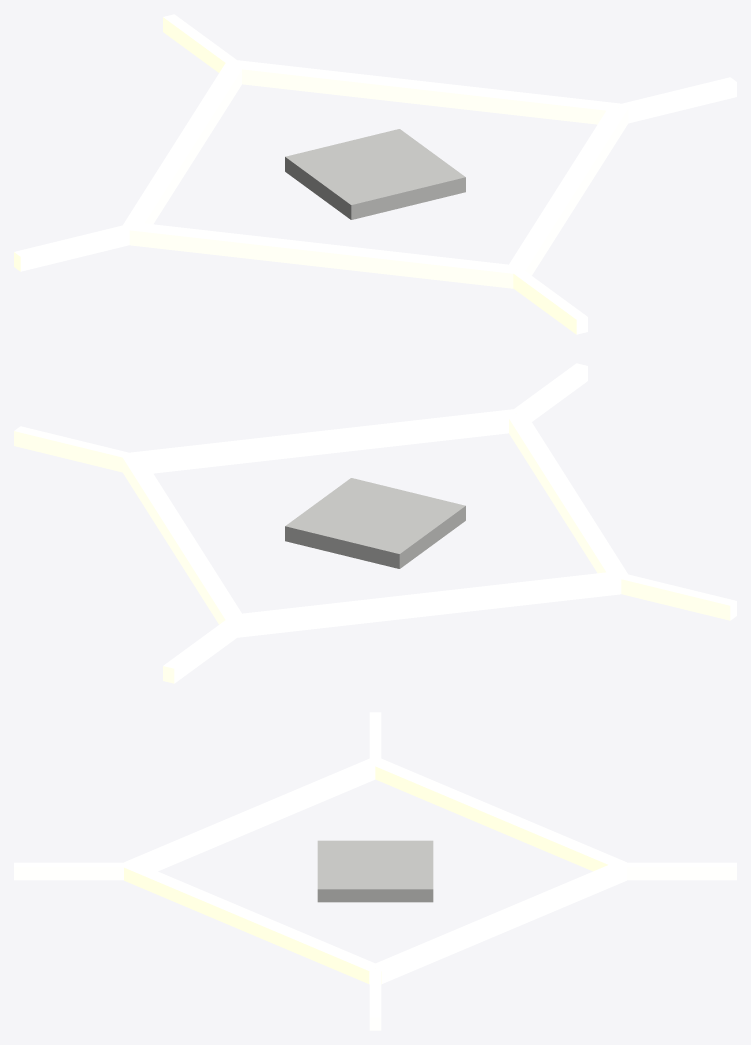
Rendered from SM_SB_Kit_Inlay.fbx.
3 views of the same model, one above another, from view 1: azimuth 30°, elevation 25°; view 2: azimuth 150°, elevation 25°; view 3: azimuth 270°, elevation 25° (orthographic). The views are drawn at different scales.
Visible parts, largest first — view 1: SM_SB_Kit_Inlay; view 2: SM_SB_Kit_Inlay; view 3: SM_SB_Kit_Inlay.
Part boxes in pixels (left/top/right/bottom): SM_SB_Kit_Inlay: left=14, top=14, right=736, bottom=334; SM_SB_Kit_Inlay: left=14, top=363, right=736, bottom=683; SM_SB_Kit_Inlay: left=14, top=712, right=736, bottom=1030.
Bounding box in the file's own units: 100 × 100 × 2.
